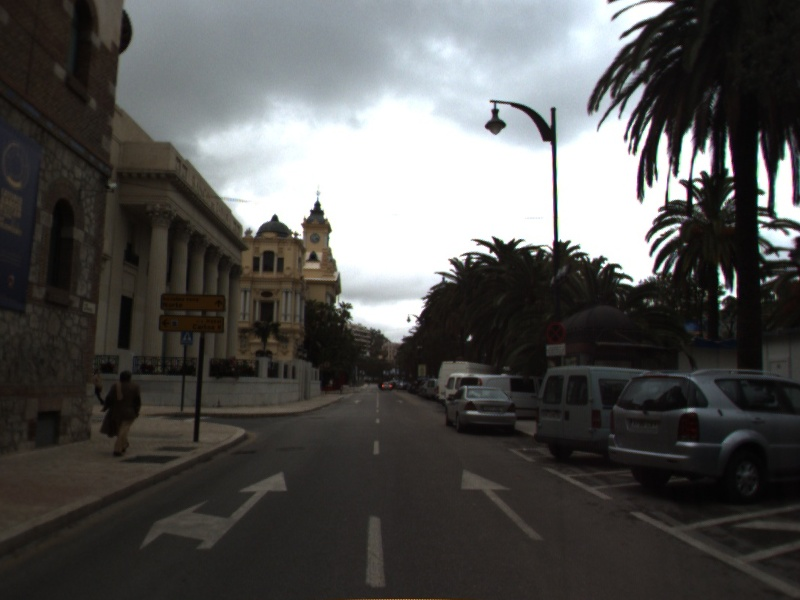STRAIGHT: (458, 467, 547, 543)
STRAIGHT_LEFT: (136, 468, 289, 552)
